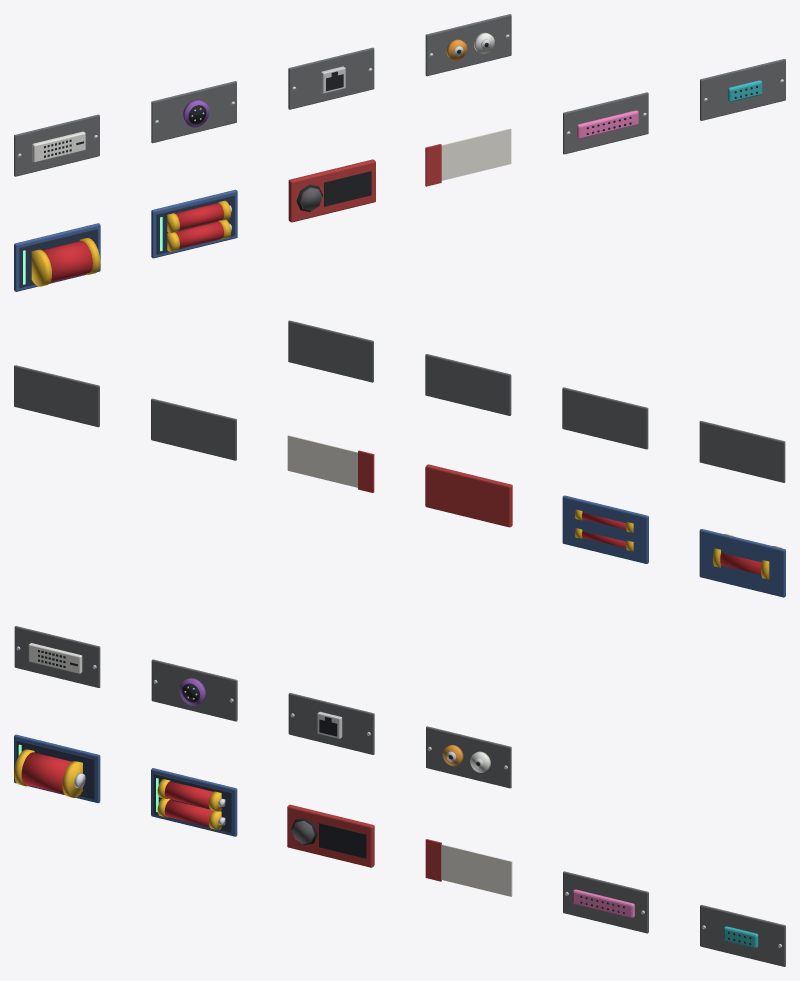
Rendered from bomb_widgets.glb.
3 renders of one model, top to bottom at view 1: azimuth 30°, elevation 25°; view 2: azimuth 150°, elevation 25°; view 3: azimuth 330°, elevation 25°, orthographic.
Parts seen in each view (by area): view 1: battery_d, battery_aa, port_rca, port_rj45, port_parallel, port_dvi_d, port_ps2, port_serial, indicator, serial_tag; view 2: battery_d, battery_aa, indicator, port_ps2, port_dvi_d, port_rj45, port_parallel, port_rca, port_serial, serial_tag; view 3: battery_d, battery_aa, port_ps2, port_rj45, port_dvi_d, port_parallel, port_rca, port_serial, indicator, serial_tag.
Part boxes in pixels (x1,y1,x2,y2): battery_d: (14, 223, 100, 291); battery_aa: (151, 189, 237, 258); port_rca: (425, 14, 511, 76); port_rj45: (288, 47, 374, 109); port_parallel: (563, 92, 648, 154); port_dvi_d: (14, 114, 99, 176); port_ps2: (151, 81, 236, 143); port_serial: (700, 59, 785, 120); indicator: (288, 159, 375, 222); serial_tag: (425, 128, 511, 186); battery_d: (699, 529, 785, 597); battery_aa: (562, 495, 648, 563); indicator: (425, 464, 512, 527); port_ps2: (562, 387, 648, 449); port_dvi_d: (699, 421, 785, 482); port_rj45: (425, 354, 511, 415); port_parallel: (151, 398, 236, 460); port_rca: (288, 320, 373, 382); port_serial: (14, 365, 99, 427); serial_tag: (287, 435, 374, 492); battery_d: (14, 734, 100, 802); battery_aa: (151, 768, 237, 836); port_ps2: (151, 659, 237, 721); port_rj45: (288, 693, 374, 754); port_dvi_d: (14, 626, 100, 687); port_parallel: (563, 871, 648, 933); port_rca: (426, 726, 511, 788); port_serial: (700, 905, 785, 966); indicator: (287, 804, 374, 867); serial_tag: (425, 839, 512, 896).
Size of the model in its own units: 5.06 by 0.98 by 0.2071.
